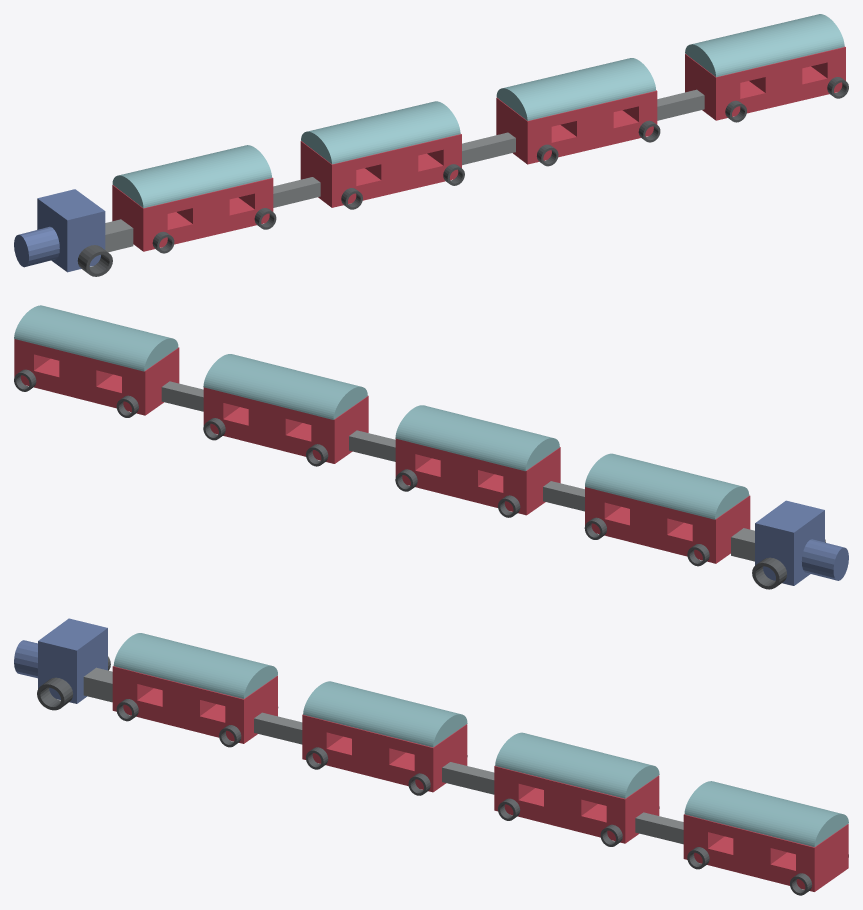
File: train.glb
3 views of the same model, one above another, from view 1: azimuth 30°, elevation 25°; view 2: azimuth 150°, elevation 25°; view 3: azimuth 330°, elevation 25° (orthographic). The views are drawn at different scales.
Visible parts, largest first — view 1: Mesh_Mesh_head_geo.001_lambert2SG.001; view 2: Mesh_Mesh_head_geo.001_lambert2SG.001; view 3: Mesh_Mesh_head_geo.001_lambert2SG.001.
Boxes of the visible parts, box(x1,y1,x2,y2) form: Mesh_Mesh_head_geo.001_lambert2SG.001: box(14, 14, 848, 276); Mesh_Mesh_head_geo.001_lambert2SG.001: box(14, 305, 848, 589); Mesh_Mesh_head_geo.001_lambert2SG.001: box(14, 618, 848, 895).
Bounding box in the file's own units: 416 × 33 × 49.
